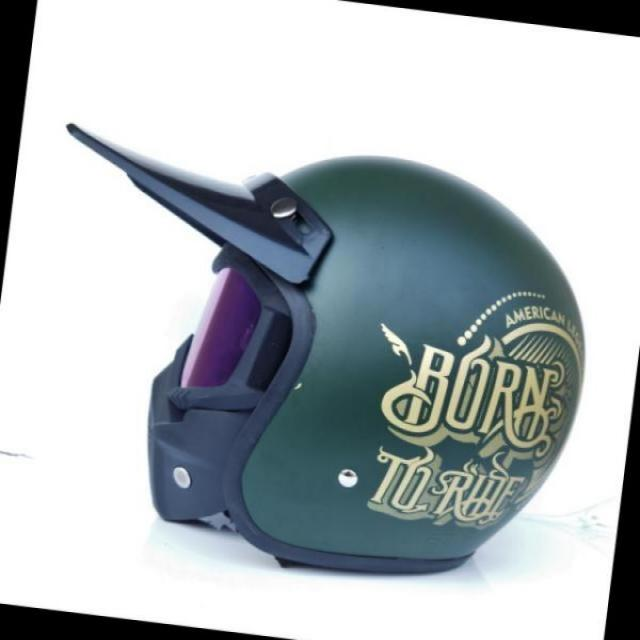Helmet: (56, 102, 602, 592)
